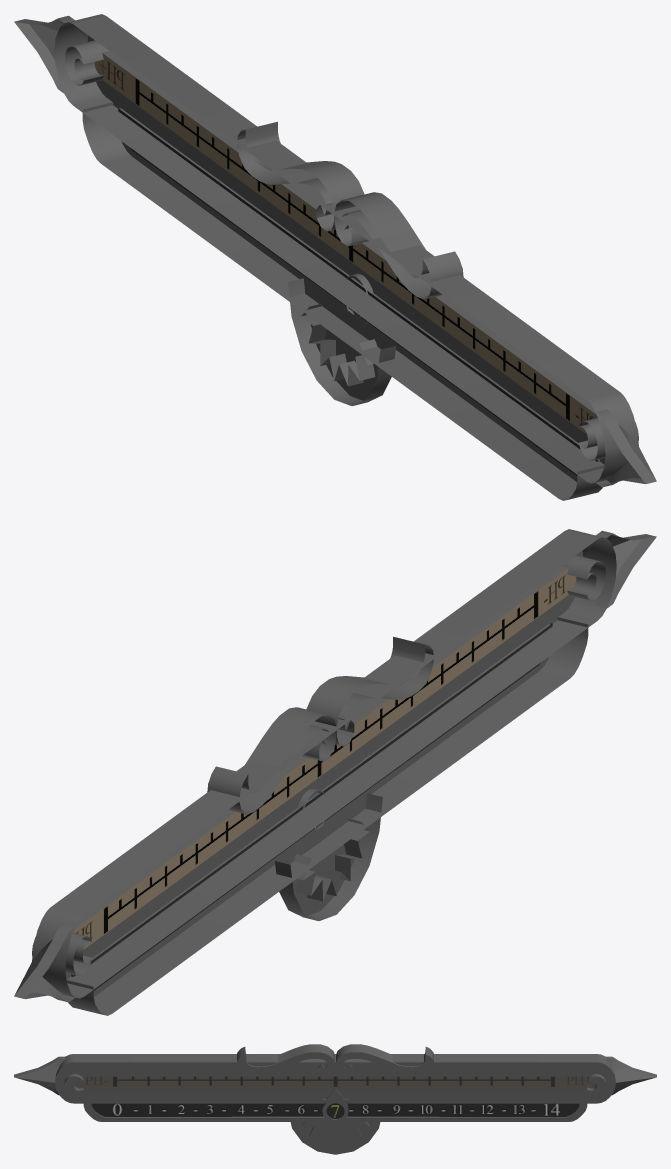
File: S_PHometro.fbx
3 views of the same model, one above another, from view 1: azimuth 30°, elevation 25°; view 2: azimuth 150°, elevation 25°; view 3: azimuth 270°, elevation 25° (orthographic). The views are drawn at different scales.
Visible parts, largest first — view 1: S_PHometro; view 2: S_PHometro; view 3: S_PHometro, Plane.001.
Part boxes in pixels (<box>): S_PHometro: <box>14,14,656,500</box>; S_PHometro: <box>14,529,656,1015</box>; S_PHometro: <box>14,1044,656,1154</box>; Plane.001: <box>322,1088,348,1123</box>.
Bounding box in the file's own units: 7.68 × 36.04 × 197.
